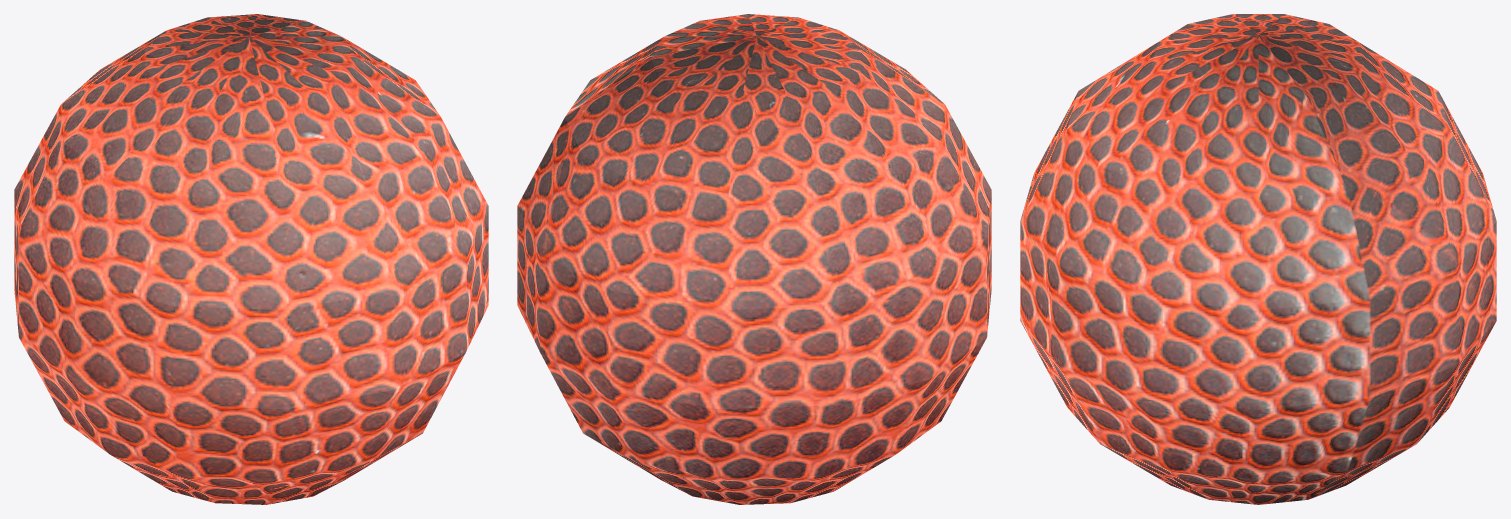
Rendered from ball 1.fbx.
The picture shows the model from 3 angles, left to right: view 1: azimuth 30°, elevation 25°; view 2: azimuth 150°, elevation 25°; view 3: azimuth 270°, elevation 25°; orthographic projection.
Parts seen in each view (by area): view 1: pSphere1; view 2: pSphere1; view 3: pSphere1.
Boxes of the visible parts, bbox=[...] form: pSphere1: bbox=[14, 14, 488, 504]; pSphere1: bbox=[517, 14, 991, 504]; pSphere1: bbox=[1020, 14, 1496, 504].
Size of the model in its own units: 1.39 by 1.45 by 1.4.
